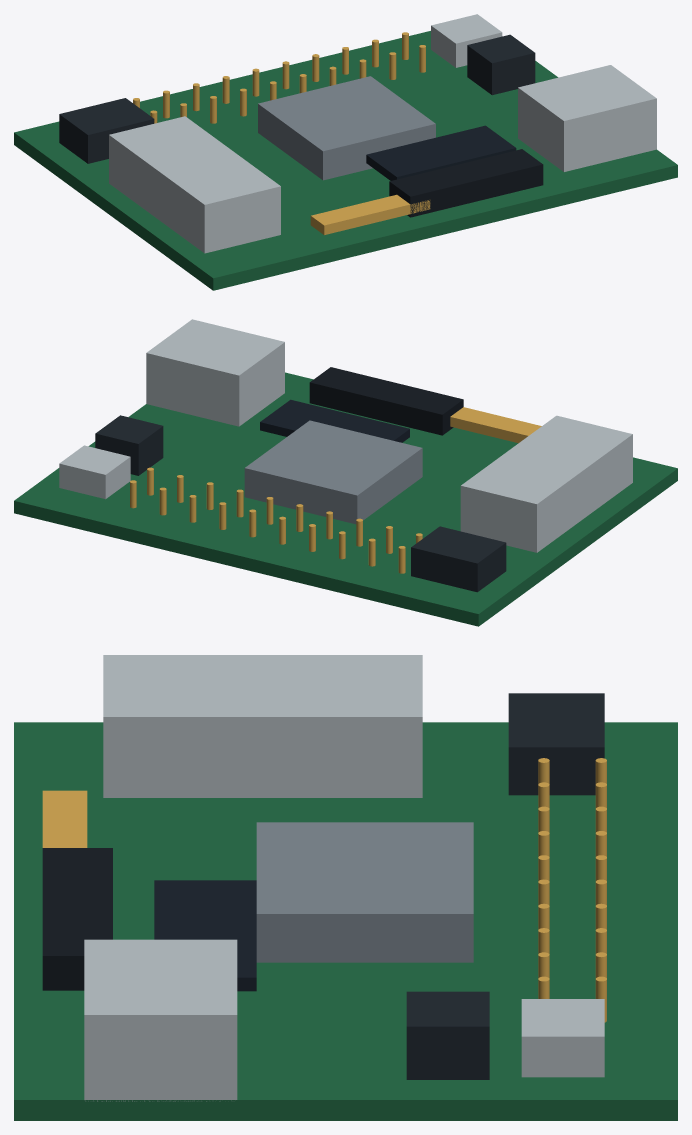
File: raspberry-pi.glb
3 renders of one model, top to bottom at view 1: azimuth 30°, elevation 25°; view 2: azimuth 150°, elevation 25°; view 3: azimuth 270°, elevation 25°, orthographic. The views are drawn at different scales.
Parts seen in each view (by area): view 1: PI PCB, USB stack, CPU heat spreader, Ethernet, micro SD slot, WiFi shield, HDMI, Audio jack, Camera connector, USB-C power; view 2: PI PCB, USB stack, CPU heat spreader, Ethernet, micro SD slot, HDMI, USB-C power, WiFi shield, Audio jack, Camera connector; view 3: PI PCB, USB stack, CPU heat spreader, Ethernet, HDMI, micro SD slot, Audio jack, WiFi shield, USB-C power, Camera connector.
Part boxes in pixels (left/top/right/bottom): PI PCB: left=14, top=31, right=677, bottom=290; USB stack: left=109, top=116, right=280, bottom=253; CPU heat spreader: left=258, top=76, right=435, bottom=180; Ethernet: left=518, top=65, right=656, bottom=171; micro SD slot: left=389, top=149, right=543, bottom=217; WiFi shield: left=366, top=125, right=516, bottom=180; HDMI: left=59, top=98, right=154, bottom=163; Audio jack: left=467, top=34, right=535, bottom=95; Camera connector: left=310, top=194, right=430, bottom=235; USB-C power: left=431, top=14, right=502, bottom=67; PI PCB: left=14, top=372, right=677, bottom=626; USB stack: left=460, top=415, right=632, bottom=552; CPU heat spreader: left=244, top=420, right=422, bottom=524; Ethernet: left=146, top=319, right=284, bottom=426; micro SD slot: left=309, top=367, right=463, bottom=435; HDMI: left=411, top=526, right=506, bottom=592; USB-C power: left=59, top=445, right=130, bottom=499; WiFi shield: left=260, top=399, right=409, bottom=442; Audio jack: left=95, top=415, right=163, bottom=475; Camera connector: left=450, top=407, right=541, bottom=443; PI PCB: left=14, top=722, right=677, bottom=1120; USB stack: left=103, top=655, right=422, bottom=797; CPU heat spreader: left=256, top=822, right=473, bottom=962; Ethernet: left=84, top=939, right=237, bottom=1101; HDMI: left=508, top=693, right=604, bottom=795; micro SD slot: left=42, top=848, right=112, bottom=990; Audio jack: left=406, top=991, right=489, bottom=1079; WiFi shield: left=154, top=880, right=256, bottom=991; USB-C power: left=521, top=999, right=604, bottom=1077; Camera connector: left=42, top=790, right=87, bottom=847.
Size of the model in its own units: 7 by 0.915 by 5.2.
